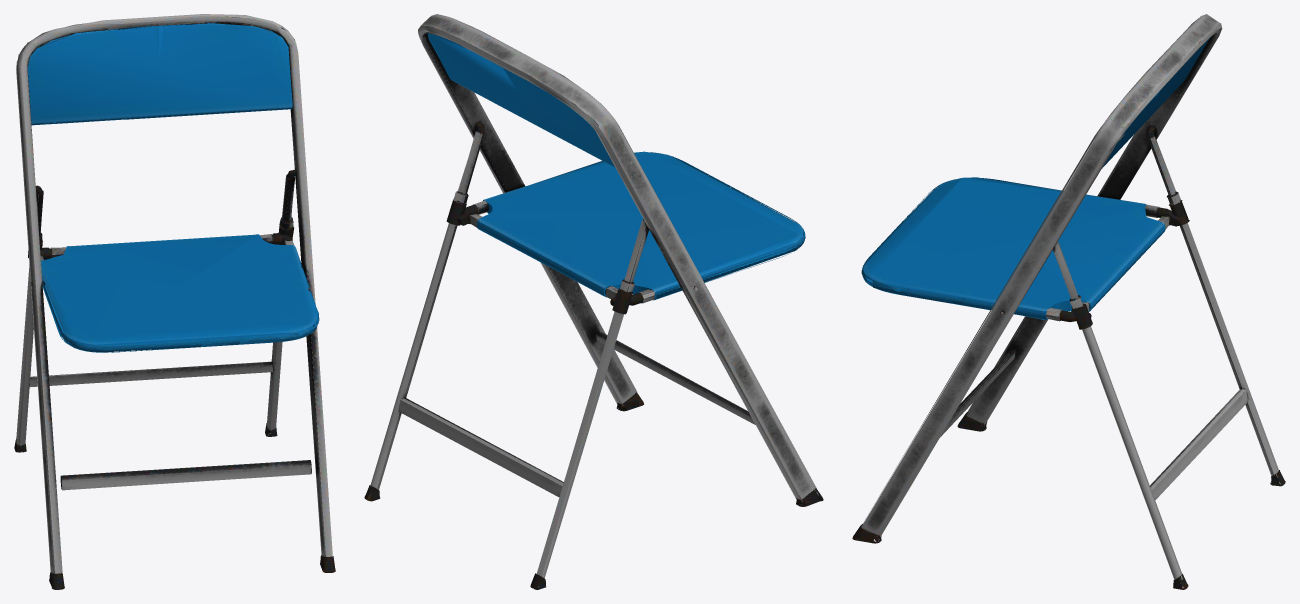
Rendered from chair.glb.
3 renders of one model, left to right at view 1: azimuth 30°, elevation 25°; view 2: azimuth 150°, elevation 25°; view 3: azimuth 270°, elevation 25°, orthographic. The views are drawn at different scales.
Parts seen in each view (by area): view 1: Object_4.001, Object_3.001, Object_5.001, Object_2.001; view 2: Object_4.001, Object_3.001, Object_5.001, Object_2.001; view 3: Object_3.001, Object_4.001, Object_5.001, Object_2.001.
Part boxes in pixels (x1,y1,x2,y2): Object_4.001: (14, 23, 335, 589); Object_3.001: (16, 14, 332, 574); Object_5.001: (16, 23, 334, 589); Object_2.001: (15, 26, 334, 589); Object_4.001: (364, 32, 823, 589); Object_3.001: (418, 14, 816, 502); Object_5.001: (365, 26, 822, 588); Object_2.001: (365, 32, 822, 589); Object_3.001: (861, 14, 1222, 541); Object_4.001: (852, 38, 1285, 589); Object_5.001: (853, 126, 1284, 588); Object_2.001: (852, 138, 1284, 589).
Bounding box in the file's own units: 675 × 889 × 740.
Materials: 1 (1 with a texture image).
